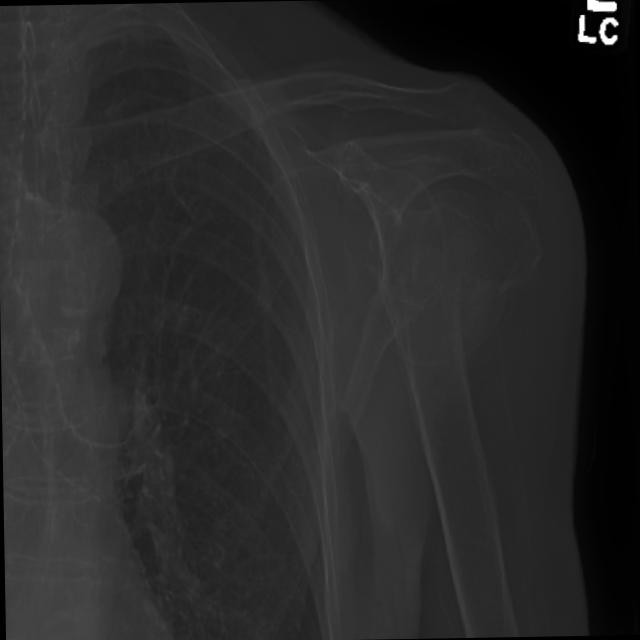shoulder fracture: (344, 231, 591, 404)
